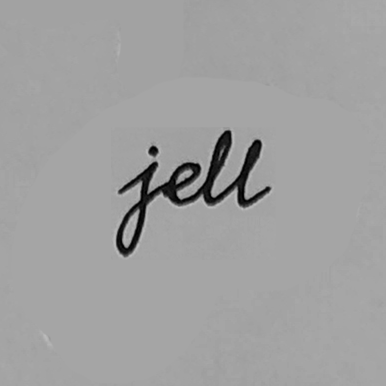e: (161, 159, 202, 208)
j: (110, 142, 160, 260)
l: (235, 137, 274, 210), (203, 126, 235, 209)
